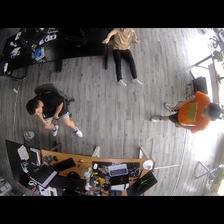fall: (102, 29, 144, 87)
normal: (25, 86, 83, 142), (149, 92, 222, 132)
